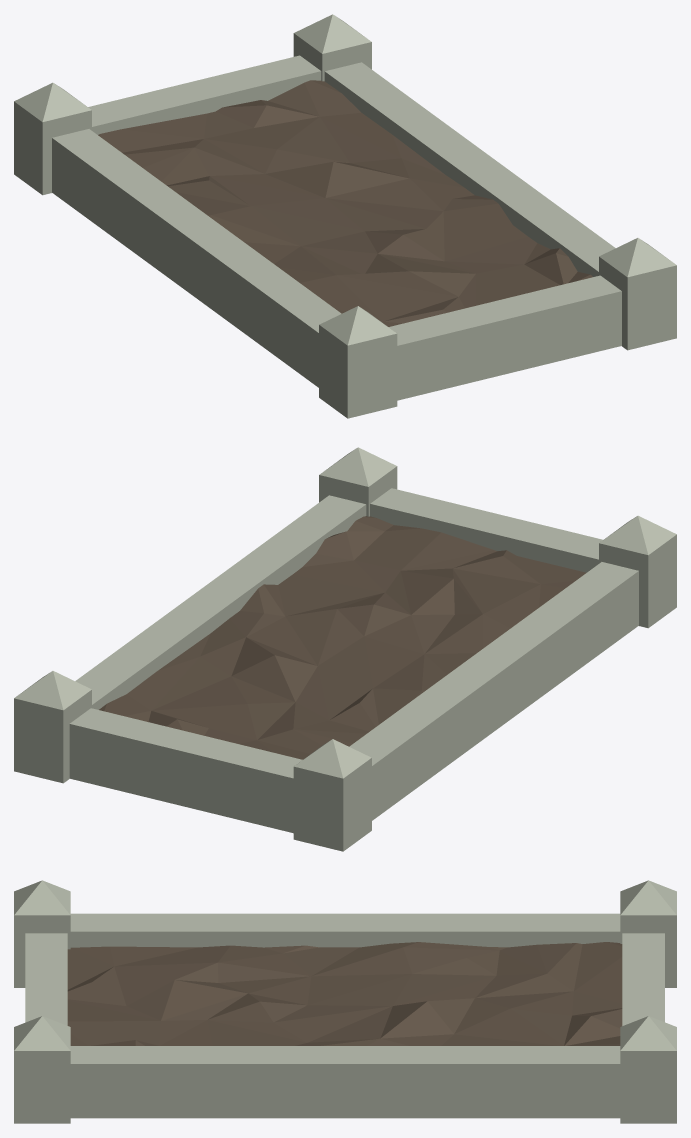
File: grave_3_mat.fbx
3 views of the same model, one above another, from view 1: azimuth 30°, elevation 25°; view 2: azimuth 150°, elevation 25°; view 3: azimuth 270°, elevation 25° (orthographic).
Parts seen in each view (by area): view 1: grave_3_mat; view 2: grave_3_mat; view 3: grave_3_mat.
Part boxes in pixels (bbox=[...]): grave_3_mat: bbox=[14, 14, 676, 418]; grave_3_mat: bbox=[14, 447, 676, 851]; grave_3_mat: bbox=[14, 880, 676, 1123].
Size of the model in its own units: 541 by 151 by 950.
